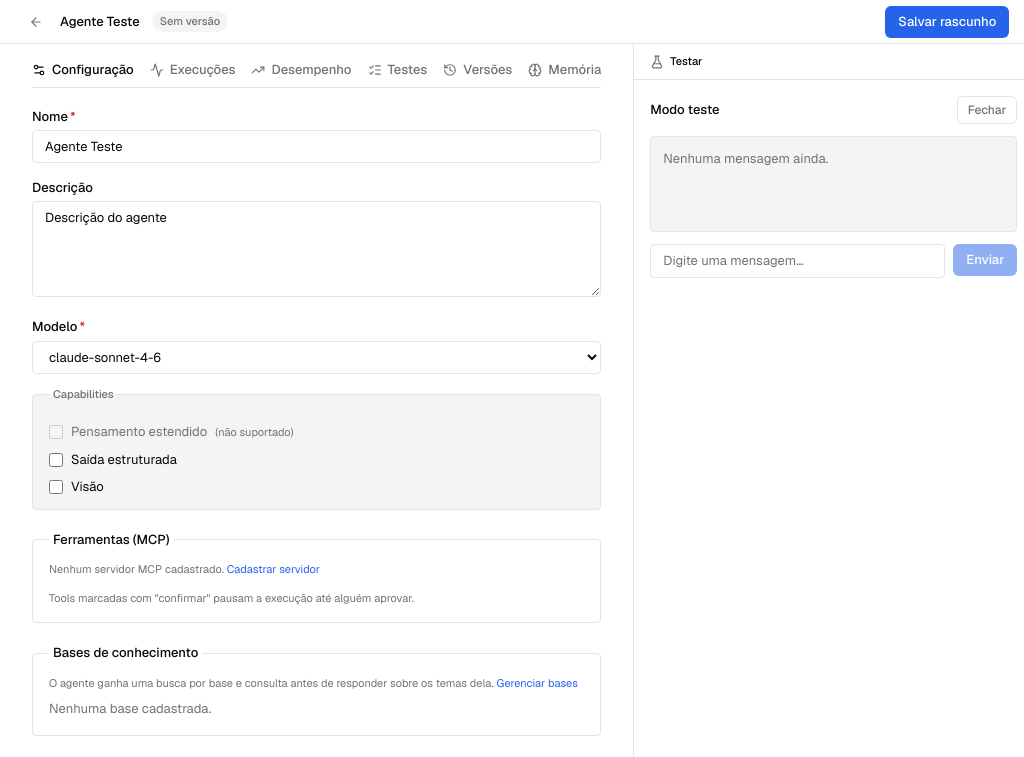
Test: AgentEditPage › exibe erro quando a API de salvar falha
The image size is (1024, 757).
expect the field showing "Agente Teste" is shown: met, box [32,130,601,163]
Click the button "Salvar rascunho": {"x": 947, "y": 22} [885,6,1009,38]
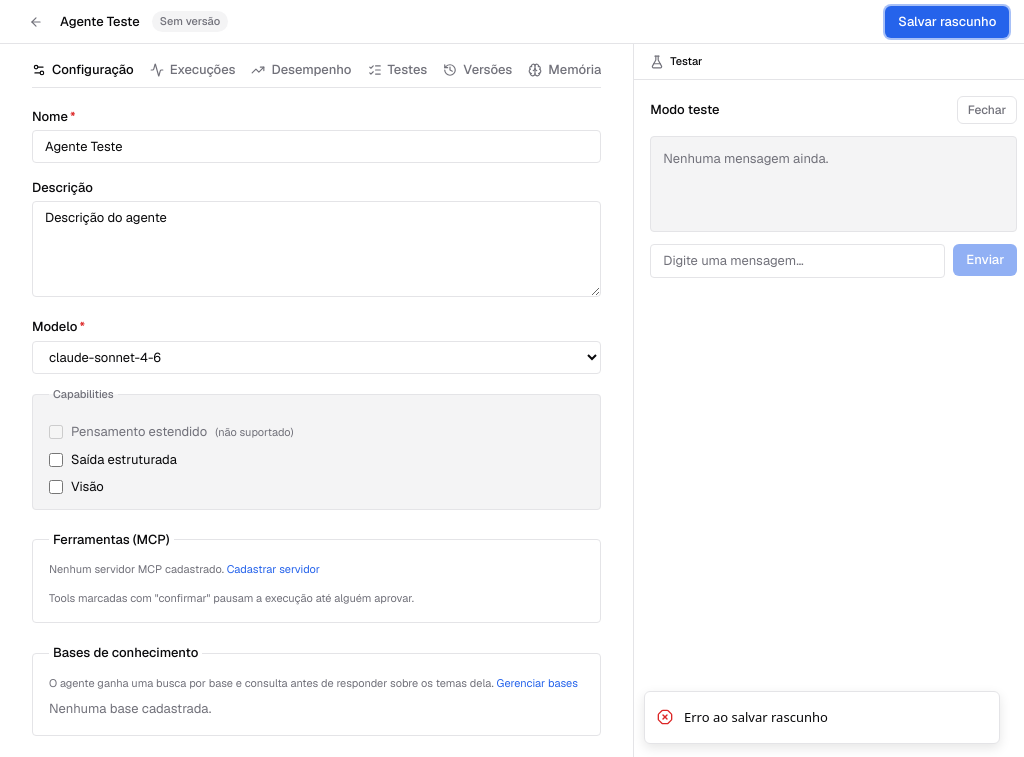
expect the text "Erro ao salvar rascunho" is shown: met, box [684,708,828,727]
